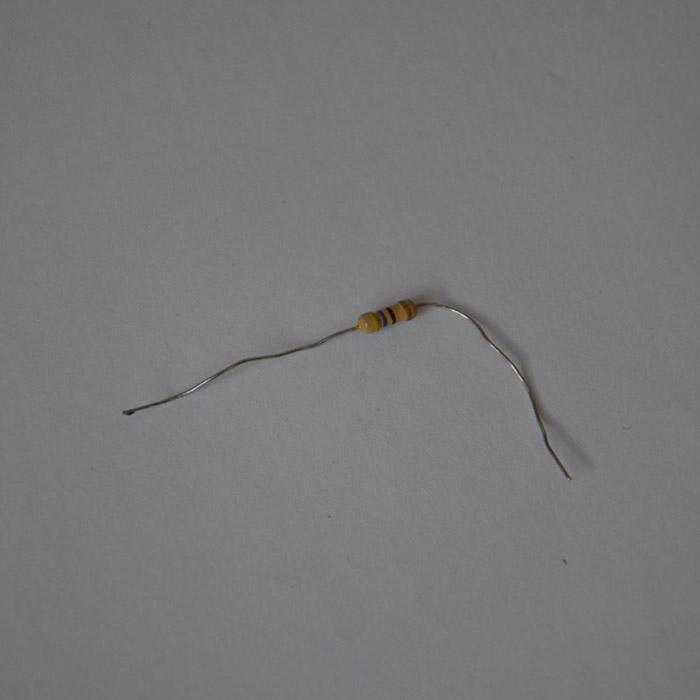resistor: (299, 281, 333, 344)
